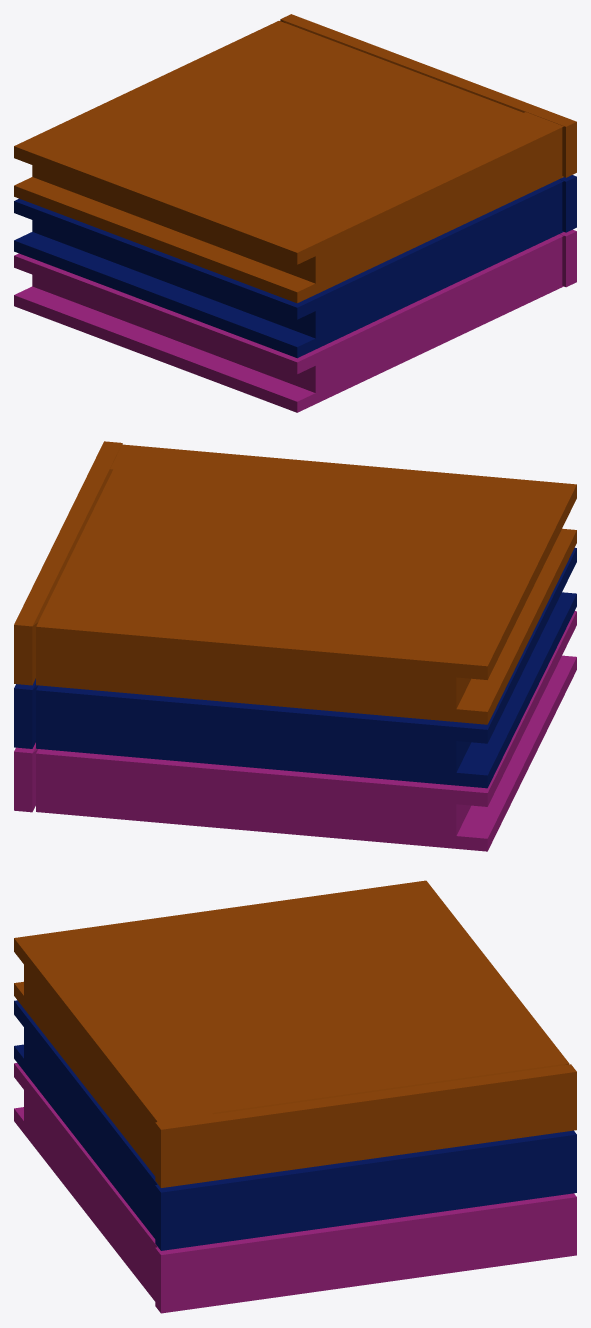
The model's file is secondstackOFbooks.fbx.
3 renders of one model, top to bottom at view 1: azimuth 30°, elevation 25°; view 2: azimuth 150°, elevation 25°; view 3: azimuth 270°, elevation 25°, orthographic. The views are drawn at different scales.
Parts seen in each view (by area): view 1: Cube.002, Cube, Cube.001; view 2: Cube.002, Cube, Cube.001; view 3: Cube.002, Cube, Cube.001.
Boxes of the visible parts, x1,y1,x2,y2 form: Cube.002: [14, 14, 576, 303]; Cube: [14, 175, 576, 358]; Cube.001: [14, 229, 576, 412]; Cube.002: [14, 441, 576, 724]; Cube: [14, 547, 576, 788]; Cube.001: [14, 611, 576, 851]; Cube.002: [14, 880, 576, 1187]; Cube: [14, 1000, 576, 1250]; Cube.001: [14, 1063, 576, 1313].
Bounding box in the file's own units: 1946 × 667 × 1854.
